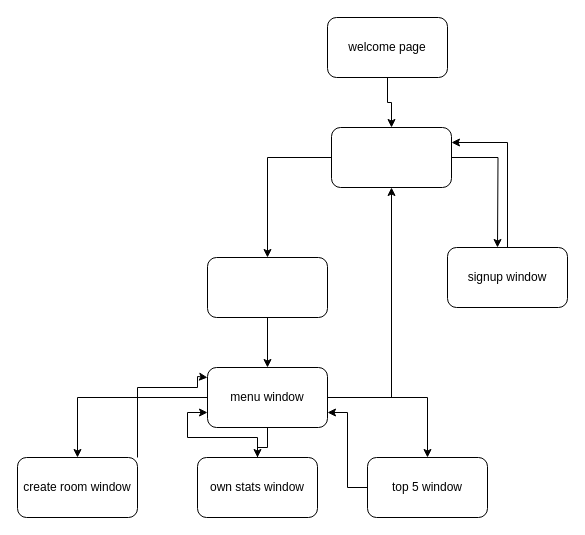
Image size: 585x535. Some labels were removed from this diagram. The centre of each missing label's shape, as x and y in pixels:
"login / signup window" belongs at point (391, 157).
"login window" belongs at point (267, 287).
